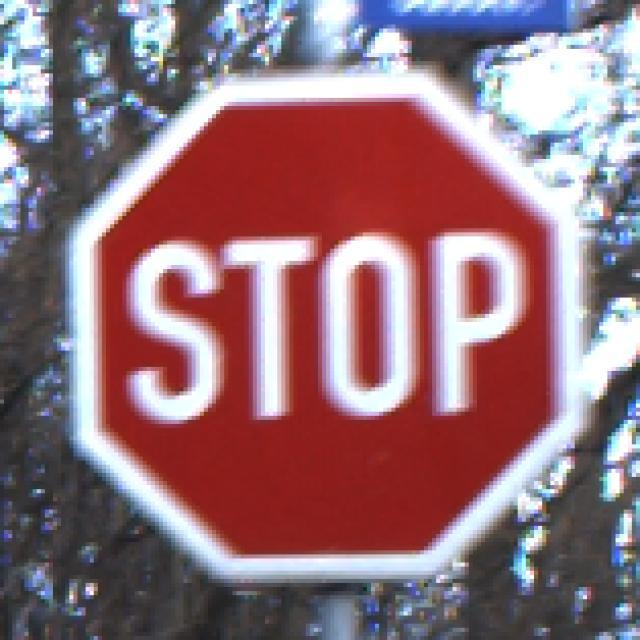stop: (60, 69, 565, 584)
